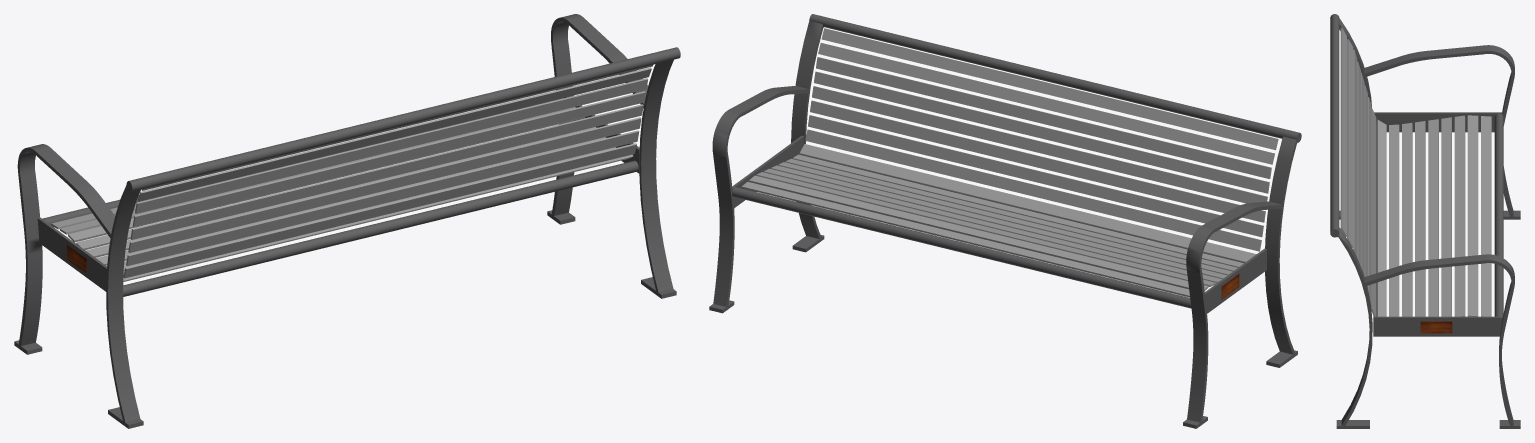
The picture shows the model from 3 angles, left to right: view 1: azimuth 30°, elevation 25°; view 2: azimuth 150°, elevation 25°; view 3: azimuth 270°, elevation 25°; orthographic projection. The views are drawn at different scales.
Visible parts, largest first — view 1: mesh48_mesh48-geometry, mesh47_mesh47-geometry, mesh49_mesh49-geometry, mesh2_mesh2-geometry, mesh7_mesh7-geometry, mesh10_mesh10-geometry, mesh12_mesh12-geometry, mesh6_mesh6-geometry, mesh1_mesh1-geometry, mesh9_mesh9-geometry, mesh3_mesh3-geometry, mesh13_mesh13-geometry (+6 smaller); view 2: mesh47_mesh47-geometry, mesh48_mesh48-geometry, mesh2_mesh2-geometry, mesh10_mesh10-geometry, mesh8_mesh8-geometry, mesh9_mesh9-geometry, mesh6_mesh6-geometry, mesh1_mesh1-geometry, mesh12_mesh12-geometry, mesh7_mesh7-geometry, mesh49_mesh49-geometry, mesh3_mesh3-geometry (+9 smaller); view 3: mesh48_mesh48-geometry, mesh47_mesh47-geometry, mesh13_mesh13-geometry, mesh16_mesh16-geometry, mesh49_mesh49-geometry, mesh11_mesh11-geometry, mesh17_mesh17-geometry, mesh5_mesh5-geometry, mesh14_mesh14-geometry, mesh3_mesh3-geometry, mesh15_mesh15-geometry, mesh4_mesh4-geometry (+9 smaller).
Part boxes in pixels (x1=…): mesh48_mesh48-geometry: x1=123, y1=14, x2=676, y2=298; mesh47_mesh47-geometry: x1=14, y1=144, x2=143, y2=428; mesh49_mesh49-geometry: x1=126, y1=47, x2=680, y2=191; mesh2_mesh2-geometry: x1=132, y1=91, x2=645, y2=226; mesh7_mesh7-geometry: x1=128, y1=117, x2=641, y2=252; mesh10_mesh10-geometry: x1=135, y1=78, x2=647, y2=213; mesh12_mesh12-geometry: x1=126, y1=130, x2=639, y2=266; mesh6_mesh6-geometry: x1=130, y1=104, x2=643, y2=239; mesh1_mesh1-geometry: x1=123, y1=143, x2=636, y2=278; mesh9_mesh9-geometry: x1=137, y1=67, x2=651, y2=201; mesh3_mesh3-geometry: x1=123, y1=154, x2=633, y2=281; mesh13_mesh13-geometry: x1=60, y1=107, x2=575, y2=234; mesh47_mesh47-geometry: x1=1183, y1=136, x2=1297, y2=428; mesh48_mesh48-geometry: x1=709, y1=21, x2=1244, y2=313; mesh2_mesh2-geometry: x1=814, y1=71, x2=1269, y2=193; mesh10_mesh10-geometry: x1=816, y1=57, x2=1271, y2=178; mesh8_mesh8-geometry: x1=821, y1=28, x2=1278, y2=150; mesh9_mesh9-geometry: x1=818, y1=43, x2=1274, y2=164; mesh6_mesh6-geometry: x1=812, y1=86, x2=1267, y2=203; mesh1_mesh1-geometry: x1=805, y1=129, x2=1261, y2=251; mesh12_mesh12-geometry: x1=808, y1=115, x2=1263, y2=237; mesh7_mesh7-geometry: x1=810, y1=100, x2=1265, y2=222; mesh49_mesh49-geometry: x1=809, y1=14, x2=1301, y2=142; mesh3_mesh3-geometry: x1=800, y1=144, x2=1256, y2=262; mesh48_mesh48-geometry: x1=1336, y1=124, x2=1520, y2=428; mesh47_mesh47-geometry: x1=1339, y1=18, x2=1520, y2=219; mesh13_mesh13-geometry: x1=1467, y1=115, x2=1478, y2=316; mesh16_mesh16-geometry: x1=1454, y1=115, x2=1465, y2=316; mesh49_mesh49-geometry: x1=1330, y1=14, x2=1339, y2=237; mesh11_mesh11-geometry: x1=1481, y1=116, x2=1491, y2=316; mesh17_mesh17-geometry: x1=1441, y1=117, x2=1451, y2=316; mesh5_mesh5-geometry: x1=1428, y1=119, x2=1438, y2=316; mesh14_mesh14-geometry: x1=1415, y1=121, x2=1425, y2=316; mesh3_mesh3-geometry: x1=1376, y1=120, x2=1386, y2=316; mesh15_mesh15-geometry: x1=1402, y1=123, x2=1412, y2=316; mesh4_mesh4-geometry: x1=1389, y1=124, x2=1399, y2=316.
Size of the model in its own units: 0.8681 by 0.3758 by 0.3244.
